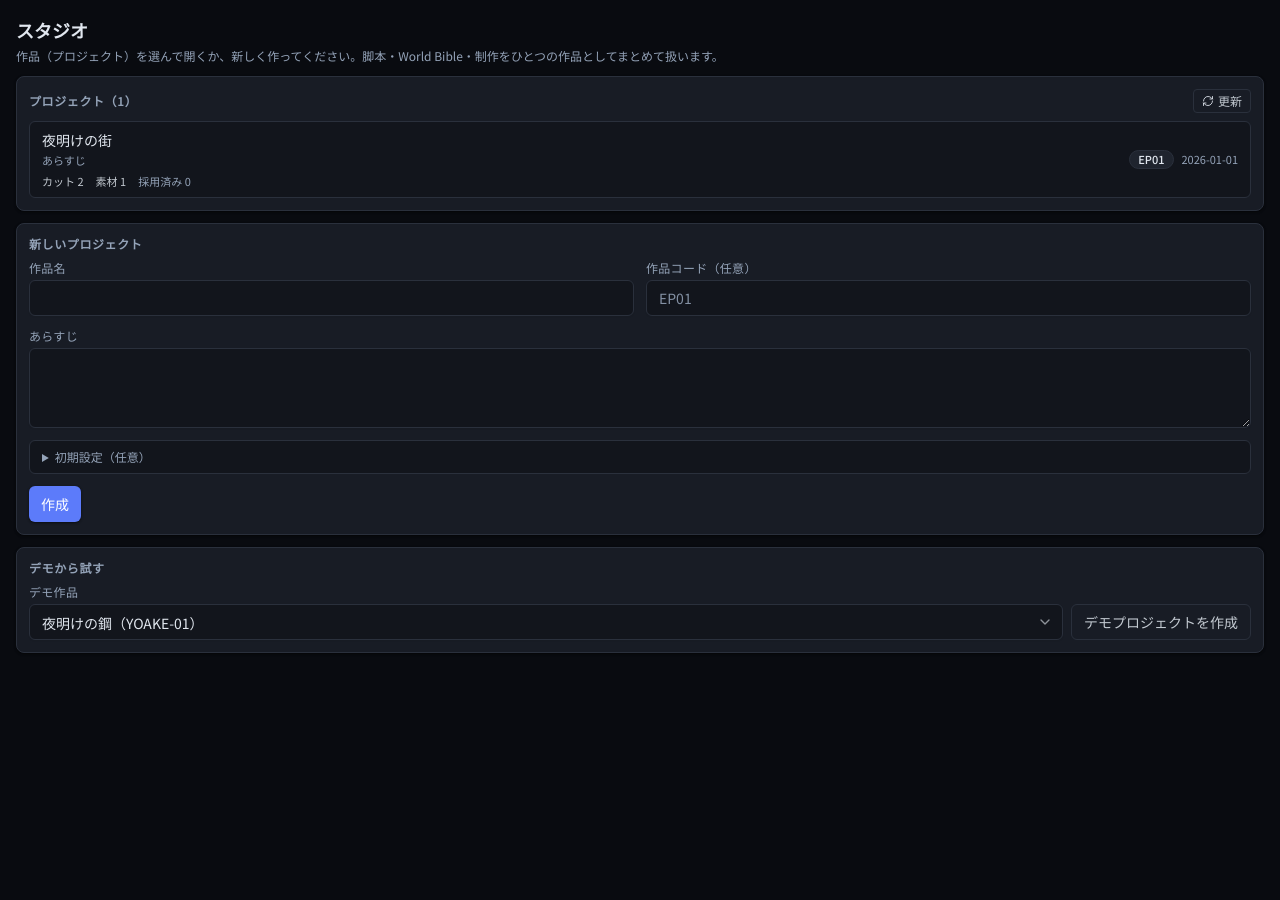
Test case: StudioView › プロジェクト一覧を出し、選ぶと 3 ペインに切り替わる
What coordinates should you click on to do the following:
click the text "夜明けの街"
I would click on:
 (77, 140)
Its box is [42,130,112,150].
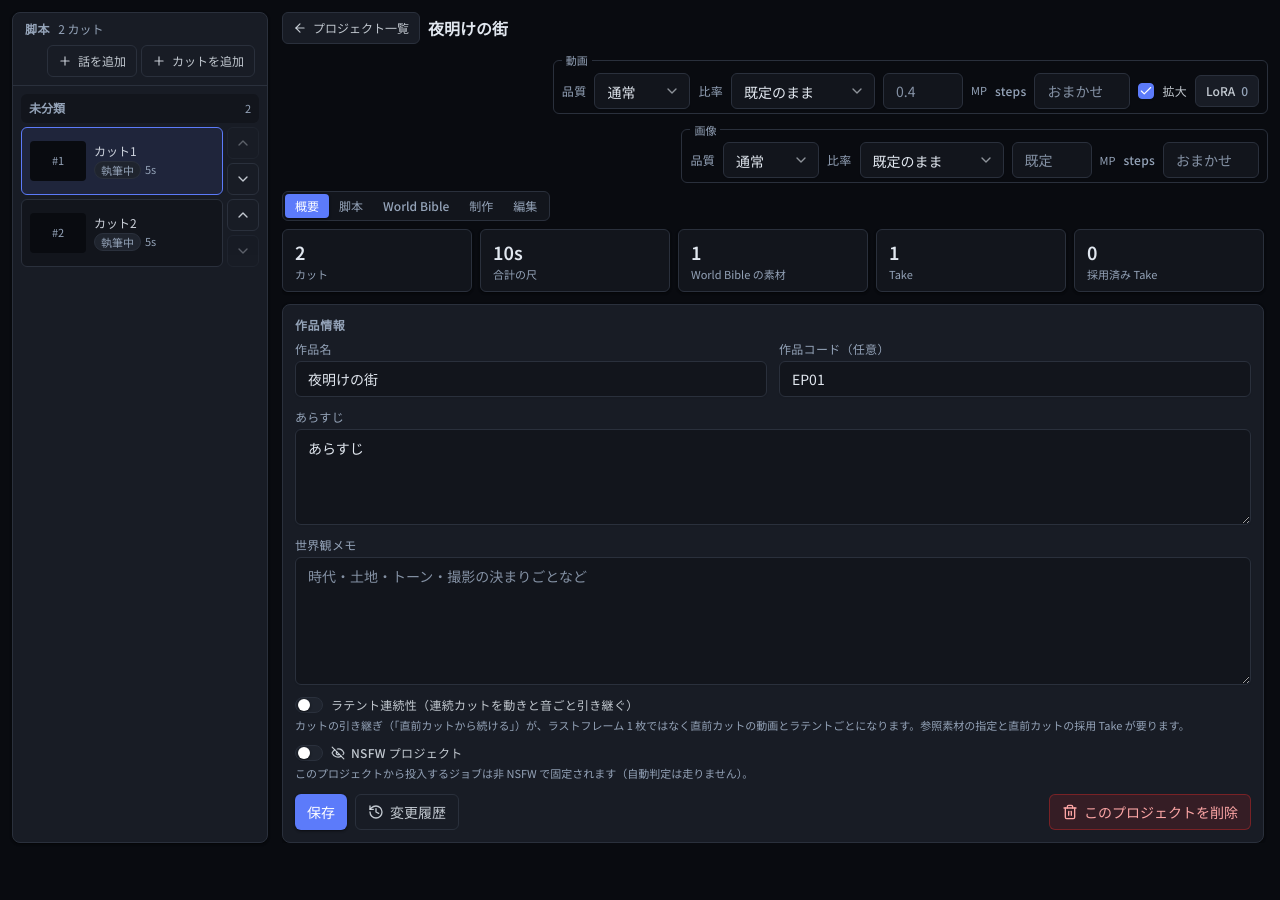
Now the tab "概要" is shown, box [285,194,329,218]
Now the heading "脚本" is shown, box [25,21,50,37]
Now the tab "World Bible" is shown, box [373,194,459,218]
